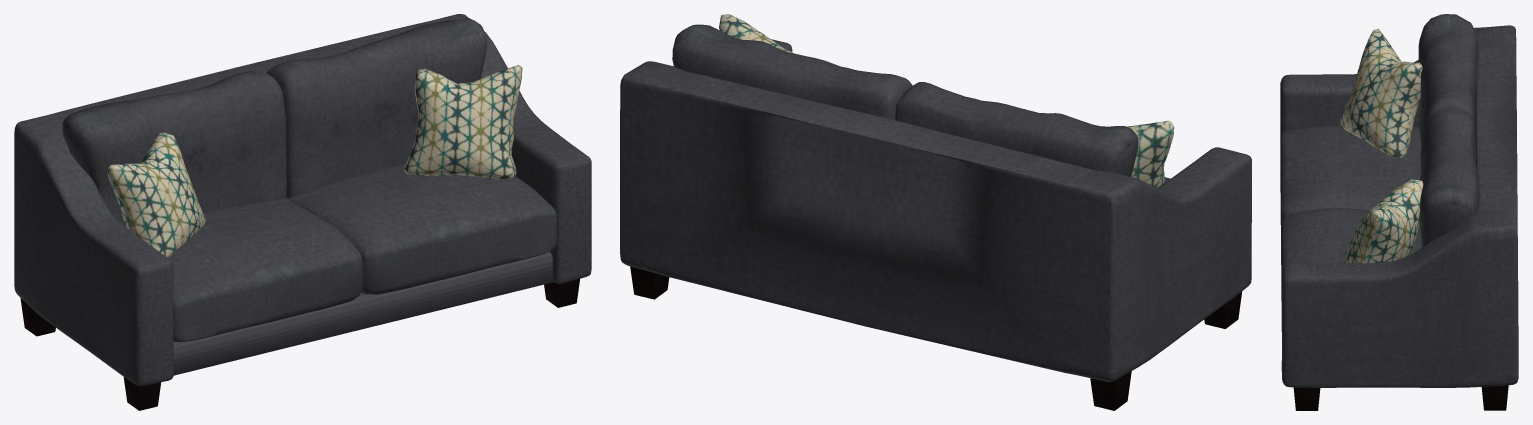
The model's file is sofa-1.glb.
The picture shows the model from 3 angles, left to right: view 1: azimuth 30°, elevation 25°; view 2: azimuth 150°, elevation 25°; view 3: azimuth 270°, elevation 25°; orthographic projection. The views are drawn at different scales.
Visible parts, largest first — view 1: Object_2; view 2: Object_2; view 3: Object_2.
Boxes of the visible parts, x1=… form: Object_2: x1=14, y1=14, x2=591, y2=410; Object_2: x1=620, y1=14, x2=1251, y2=410; Object_2: x1=1280, y1=14, x2=1518, y2=410.
Size of the model in its own units: 15.56 by 7.38 by 7.62.
1 material, 1 textured.
